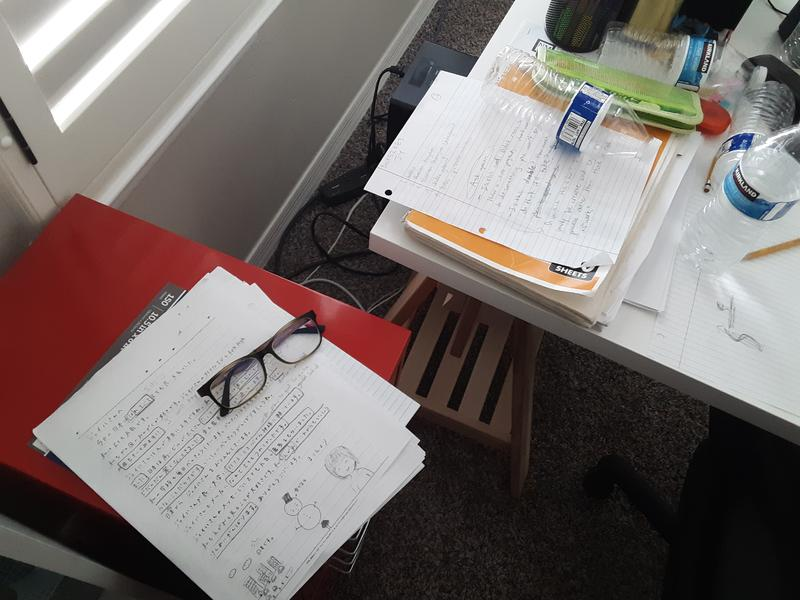glasses: (196, 309, 327, 418)
